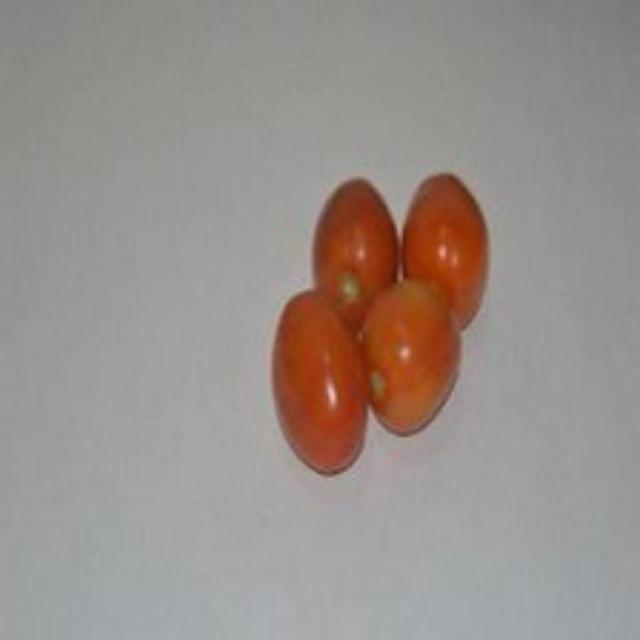tomato: (362, 281, 474, 443)
